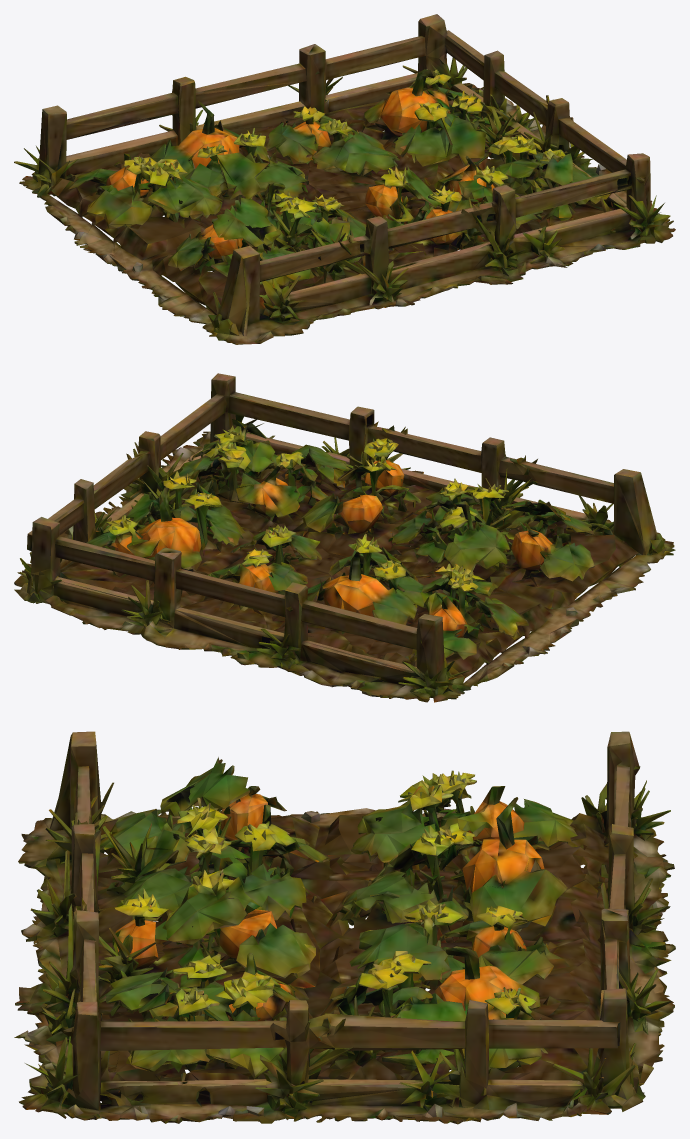
File: pumpkingPatch.glb
The picture shows the model from 3 angles, top to bottom: view 1: azimuth 30°, elevation 25°; view 2: azimuth 150°, elevation 25°; view 3: azimuth 270°, elevation 25°; orthographic projection. The views are drawn at different scales.
Visible parts, largest first — view 1: geometry_0; view 2: geometry_0; view 3: geometry_0.
Part boxes in pixels (bbox=[...]): geometry_0: bbox=[14, 14, 675, 344]; geometry_0: bbox=[14, 373, 675, 702]; geometry_0: bbox=[14, 731, 675, 1124].
Size of the model in its own units: 1 by 0.1805 by 0.8695.
1 material, 1 textured.
